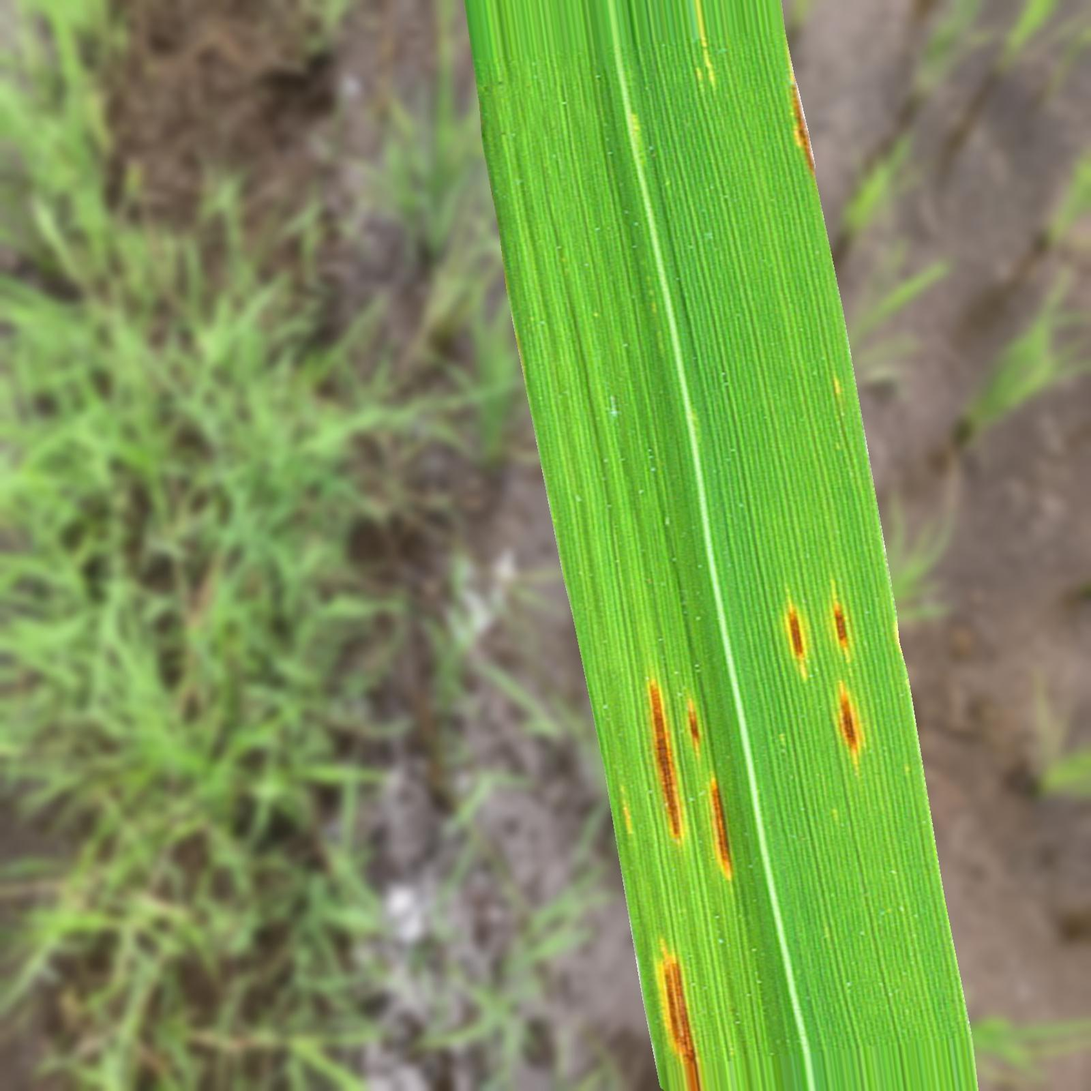LEAF: (464, 0, 978, 1090)
NBS: (659, 947, 700, 1090), (648, 681, 684, 841), (791, 75, 815, 175), (710, 777, 732, 879), (839, 683, 862, 764), (788, 607, 805, 659), (687, 698, 700, 752), (834, 603, 848, 648)
